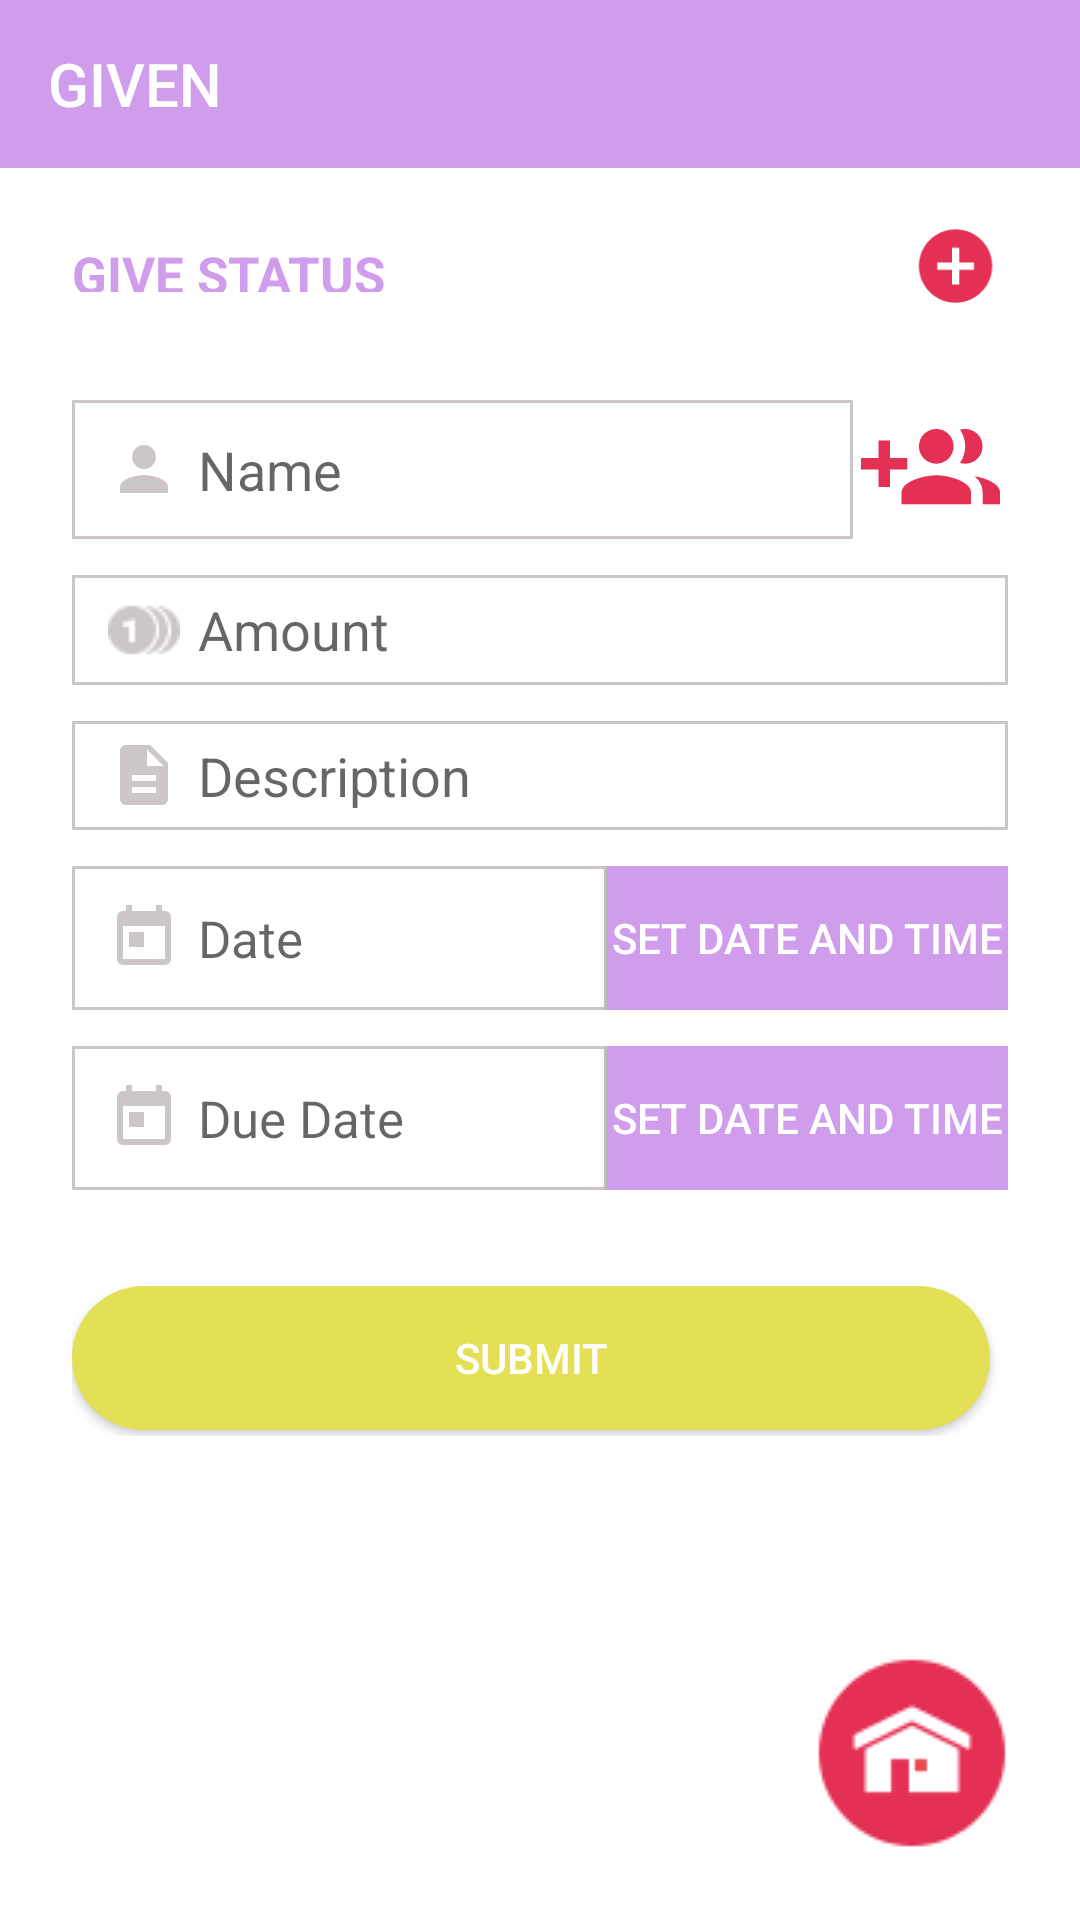

Screen size 1080px x 1920px. Icon name, then its box in pixels as detection(x1, y1, x2, y2):
add circle: detection(918, 229, 993, 303)
group add: detection(861, 429, 1000, 505)
home: detection(818, 1659, 1006, 1847)
